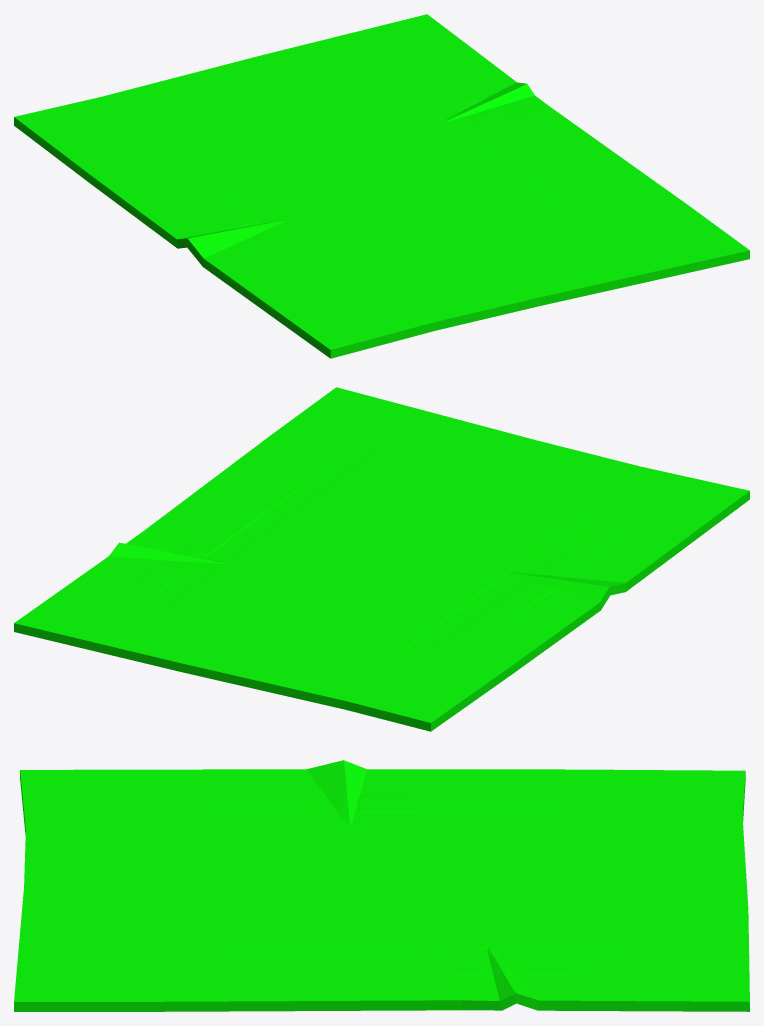
Rendered from SM_Carpet_Tent_A_Fantasy.fbx.
3 views of the same model, one above another, from view 1: azimuth 30°, elevation 25°; view 2: azimuth 150°, elevation 25°; view 3: azimuth 270°, elevation 25° (orthographic). The views are drawn at different scales.
Visible parts, largest first — view 1: carpet-tent-a-fantasy; view 2: carpet-tent-a-fantasy; view 3: carpet-tent-a-fantasy.
Part boxes in pixels (x1,y1,x2,y2): carpet-tent-a-fantasy: (14, 14, 749, 358); carpet-tent-a-fantasy: (14, 387, 749, 731); carpet-tent-a-fantasy: (14, 760, 749, 1011).
Size of the model in its own units: 1.5 by 0.0574 by 2.
